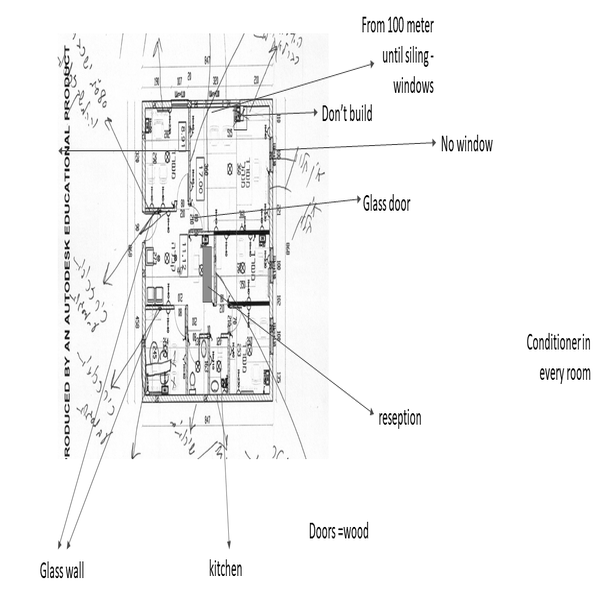room: (140, 91, 197, 212), (199, 229, 277, 313), (139, 306, 193, 402)
